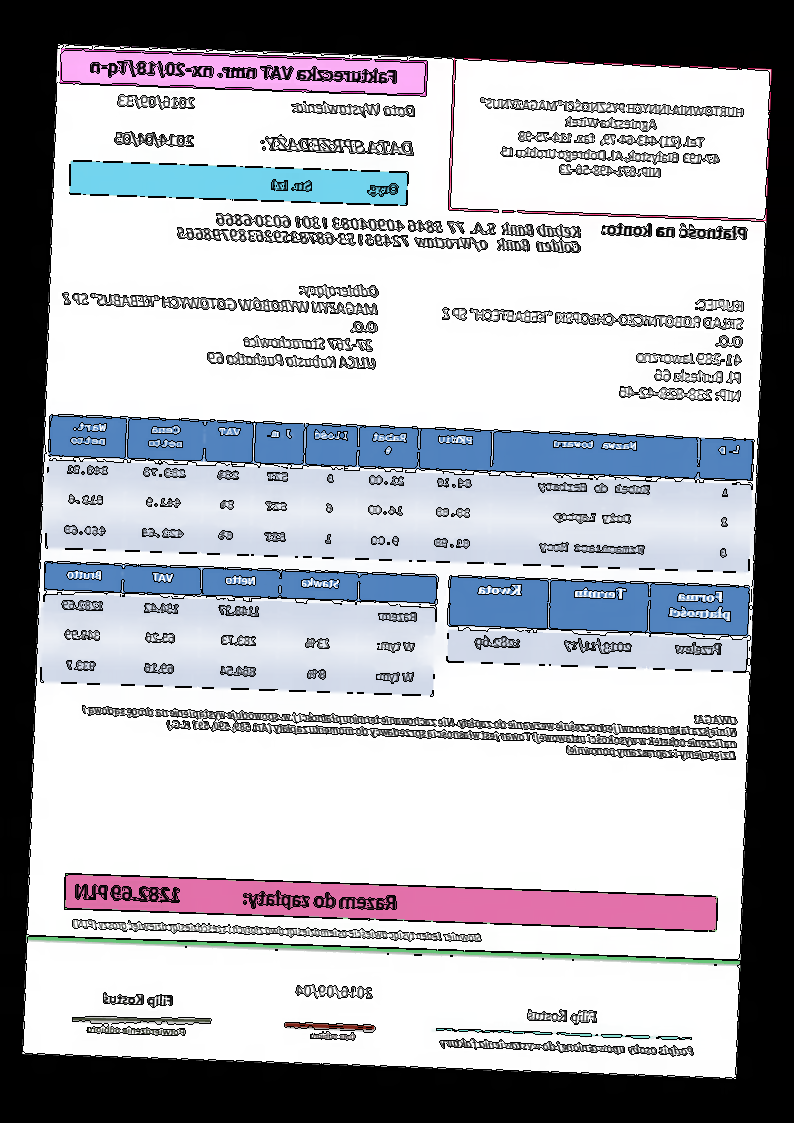Table: (43, 411, 755, 576), (39, 559, 440, 699), (447, 575, 752, 674)
TextBox: (78, 688, 741, 764), (437, 284, 748, 407), (55, 271, 382, 375), (476, 95, 749, 185), (174, 209, 585, 258), (72, 913, 487, 946), (72, 877, 400, 916), (88, 57, 403, 88), (434, 1035, 697, 1061), (260, 130, 418, 160), (600, 218, 754, 245), (268, 173, 404, 200), (290, 94, 421, 121), (112, 126, 199, 152), (292, 977, 376, 1002), (85, 1021, 188, 1039), (97, 987, 178, 1009), (526, 1004, 602, 1027), (116, 92, 199, 112), (305, 1027, 362, 1044)
